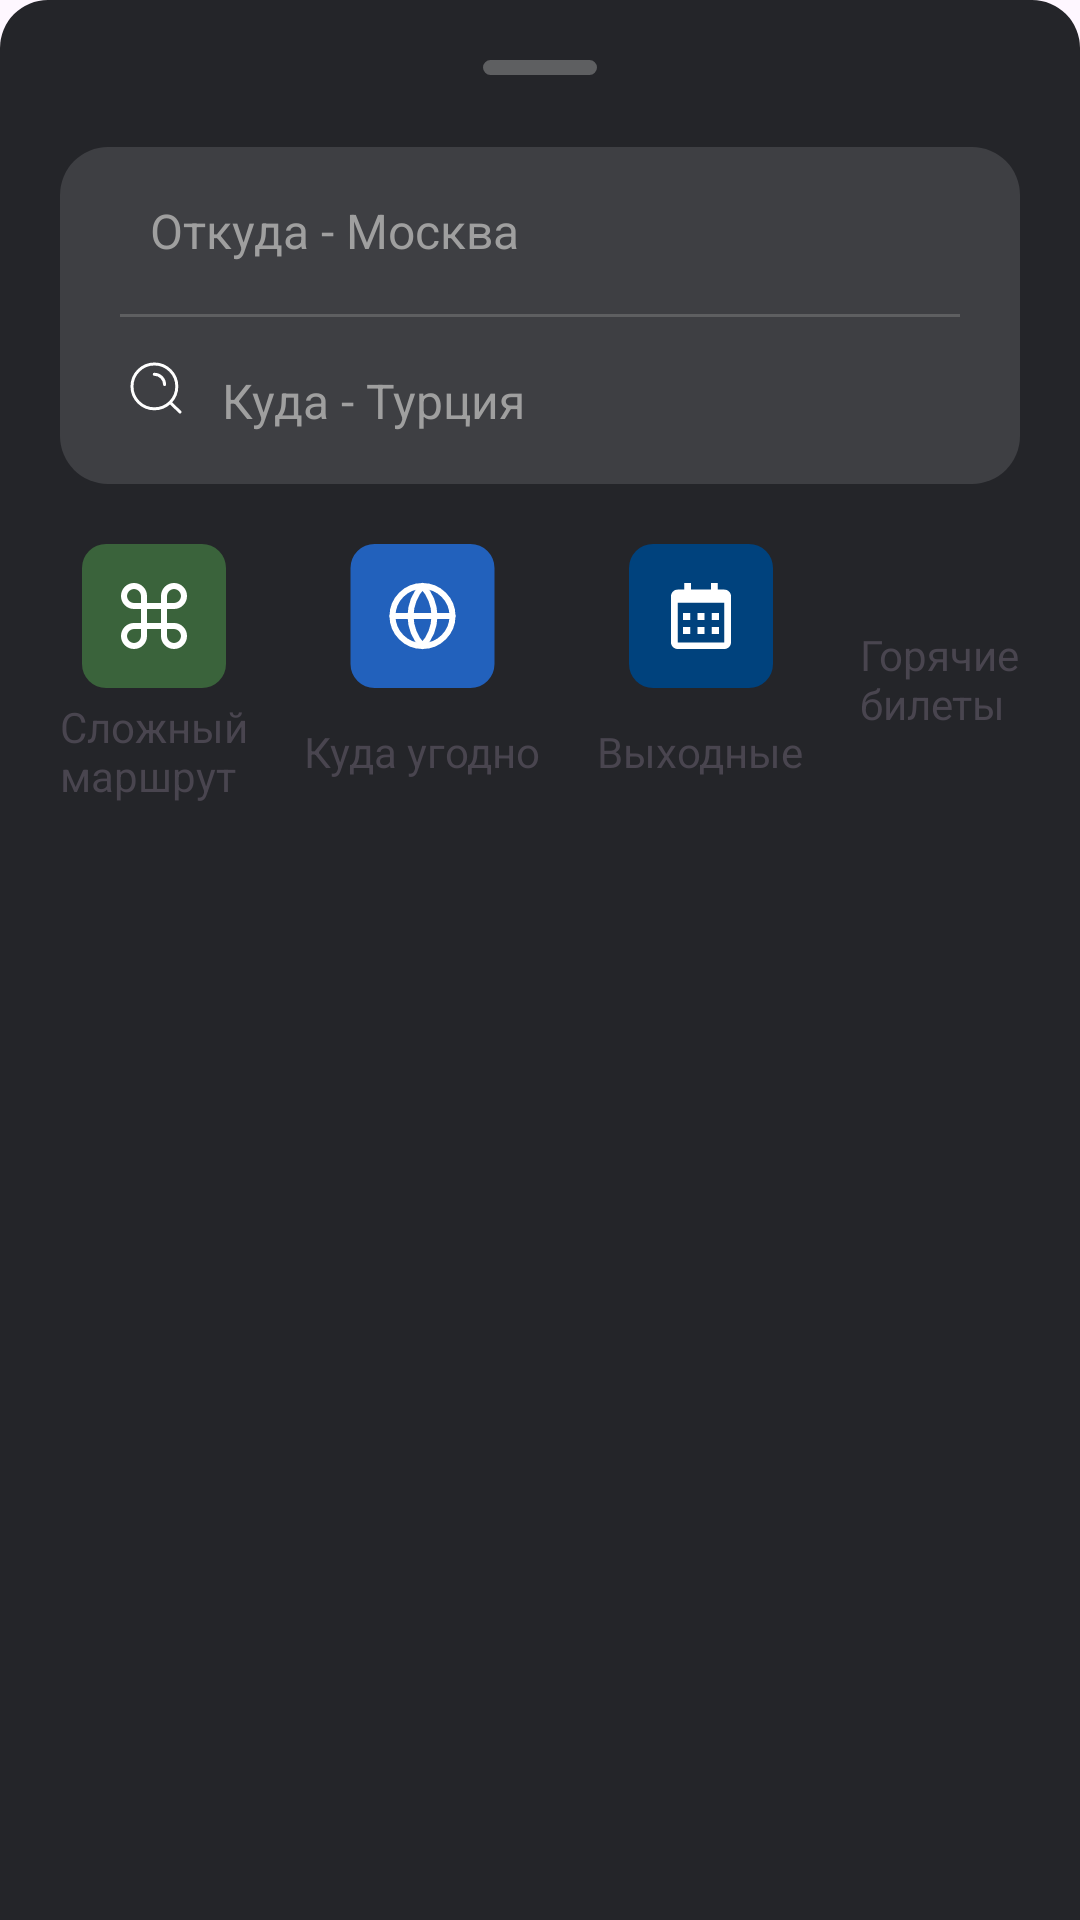

Screen size 1080*1920. Icon name, then its box in pixels as bbox=(x1, y1, x2, y2):
any route: bbox=(350, 544, 495, 688)
search to: bbox=(130, 362, 182, 414)
weekend: bbox=(629, 544, 773, 688)
